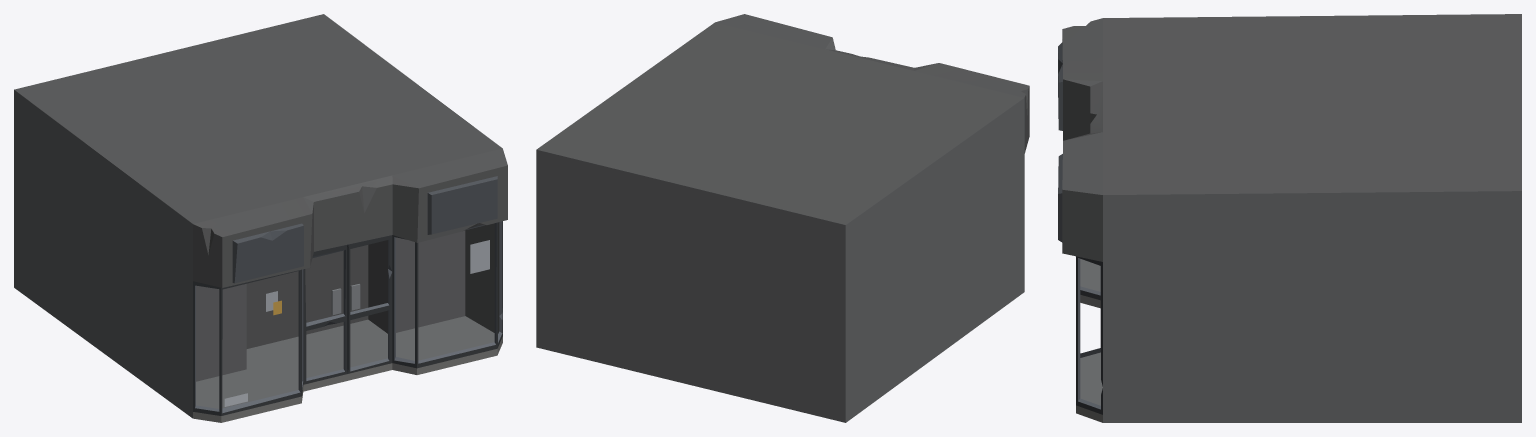
Rendered from shop_01.glb.
3 renders of one model, left to right at view 1: azimuth 30°, elevation 25°; view 2: azimuth 150°, elevation 25°; view 3: azimuth 270°, elevation 25°, orthographic. The views are drawn at different scales.
Parts seen in each view (by area): view 1: SM_Bld_Shop_01; view 2: SM_Bld_Shop_01; view 3: SM_Bld_Shop_01.
Boxes of the visible parts, x1,y1,x2,y2 form: SM_Bld_Shop_01: (14, 14, 507, 422); SM_Bld_Shop_01: (536, 14, 1029, 422); SM_Bld_Shop_01: (1058, 14, 1521, 422).
Bounding box in the file's own units: 5 × 3.05 × 5.54.
1 material, 1 textured.
